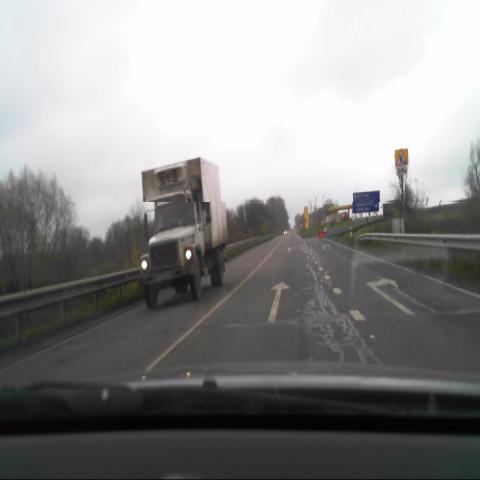1_25: (395, 149, 409, 166)
